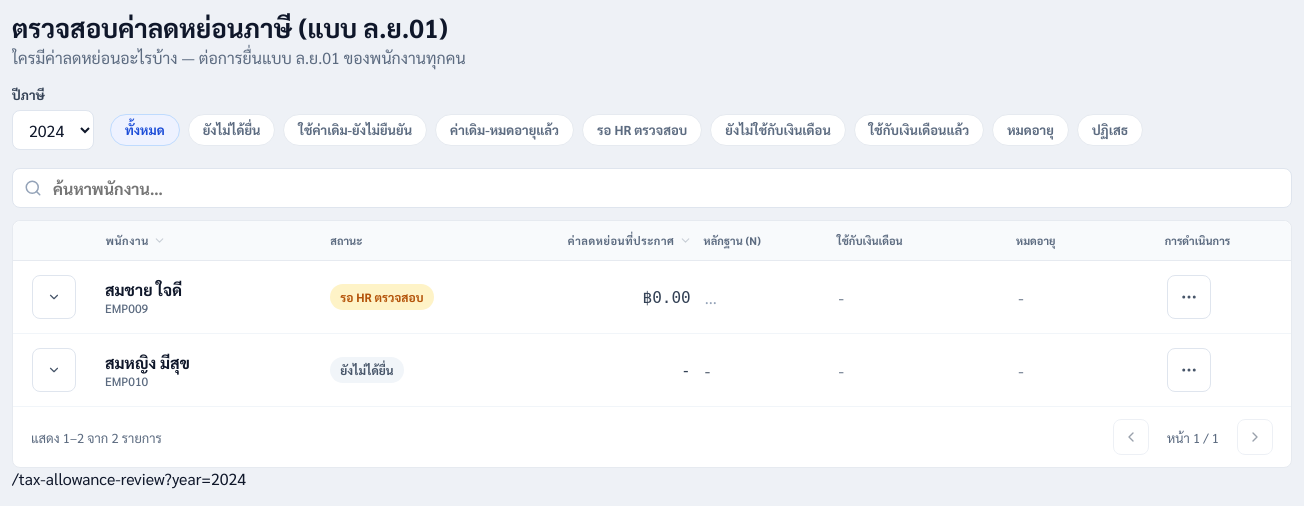
TaxAllowanceReviewPage › URL state › keeps the chosen year when the search box is typed into
Expected: the text "สมชาย ใจดี" is shown, [105,279,182,300]
In the search field with placeholder "ค้นหาพนักงาน…": (652, 188) [12,168,1292,208], type "EMP009"
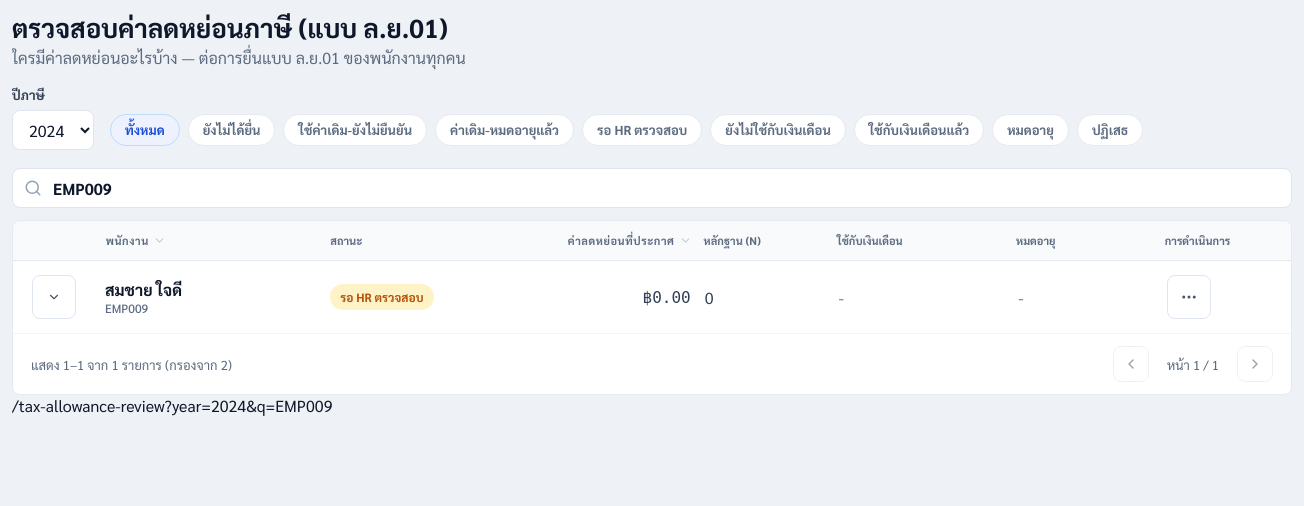
Expected: the text with test id "location" shows "year=2024", [12,395,332,416]
Now the text with test id "location" shows "q=EMP009", box [12,395,332,416]
